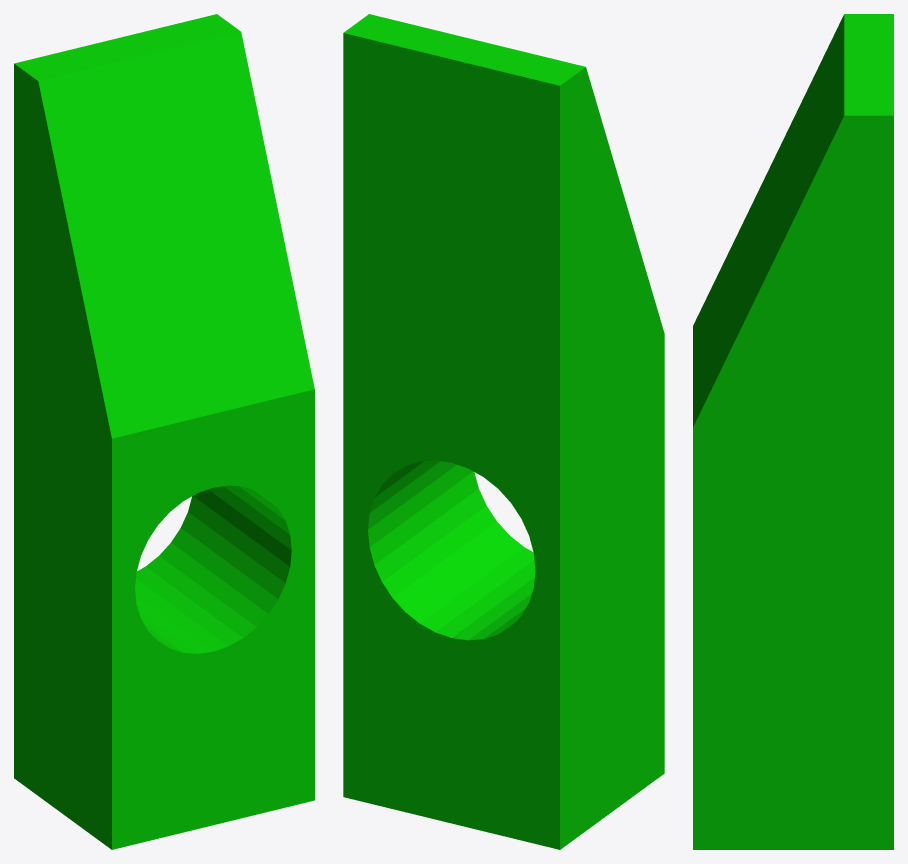
Rendered from hammer_head_colored.obj.
3 views of the same model, side by side, from view 1: azimuth 30°, elevation 25°; view 2: azimuth 150°, elevation 25°; view 3: azimuth 270°, elevation 25° (orthographic). The views are drawn at different scales.
Bounding box in the file's own units: 0.046 × 0.1549 × 0.0384.
